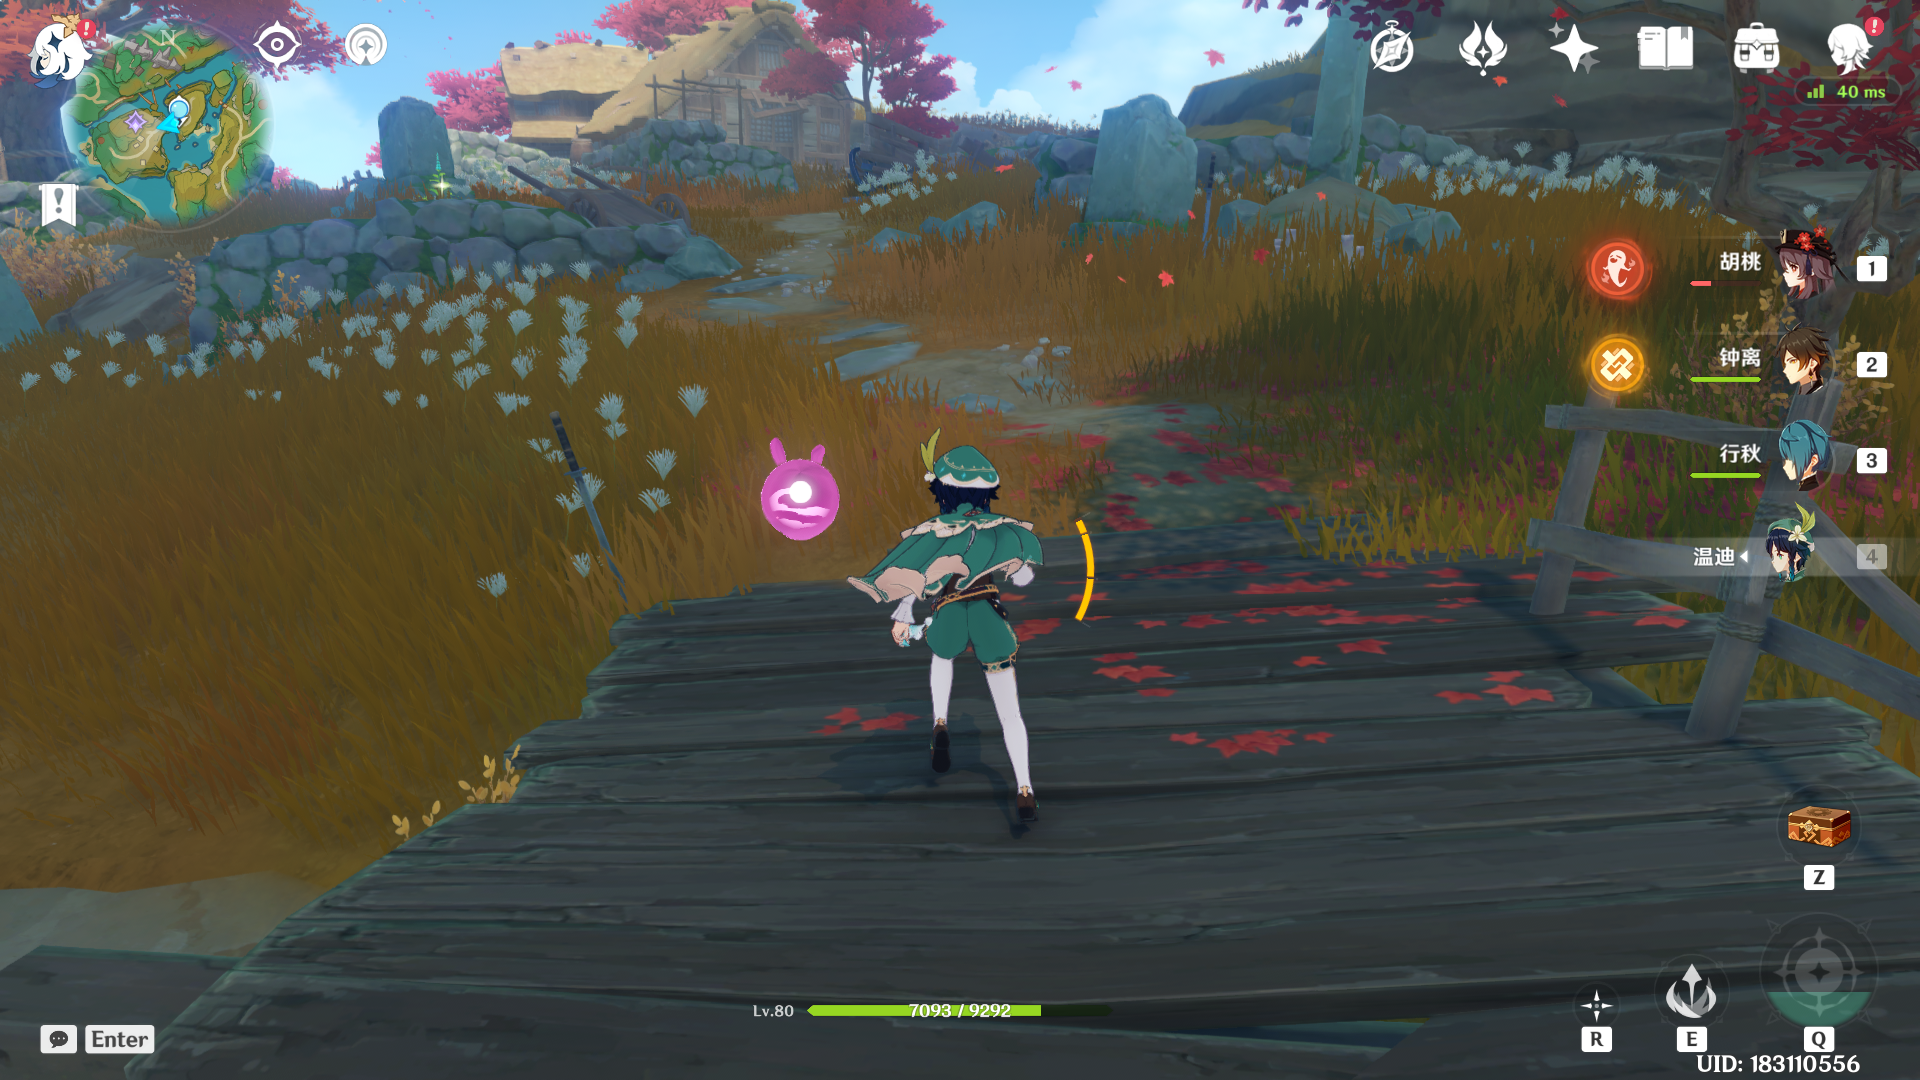character: (858, 385, 1131, 810)
